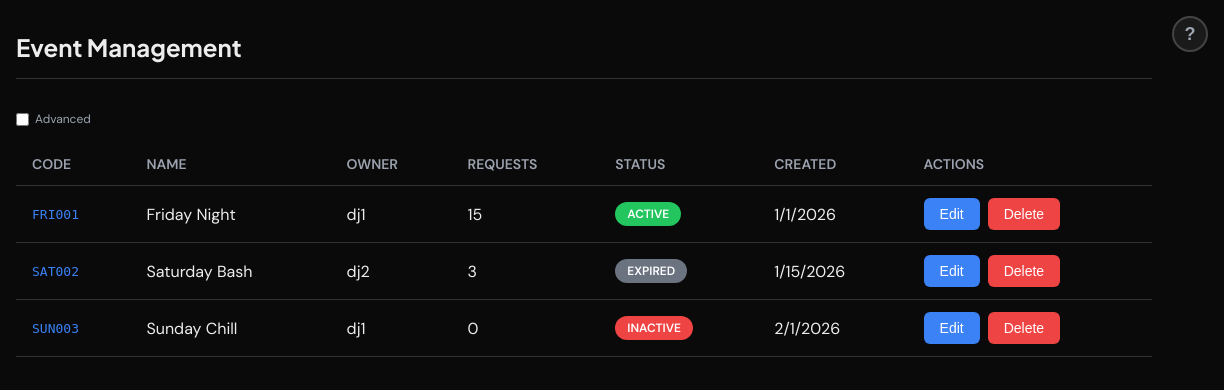
AdminEventsPage › Batch delete (selection mode) › select all header checkbox
The image size is (1224, 390).
expect the text "Friday Night" is shown: met, box [130,186,331,242]
Step 1. Click the checkbox labelled "Advanced" → (22, 119), box [16,112,29,126]
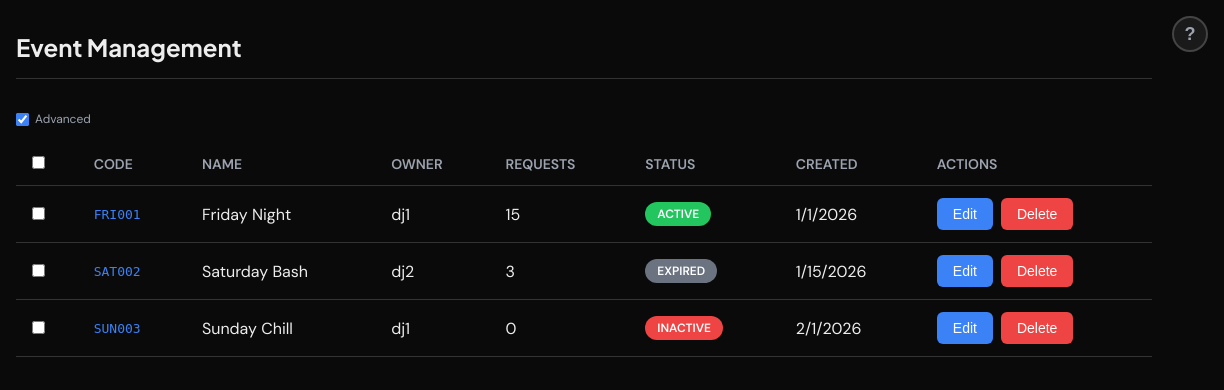
Step 2. Click the checkbox named "Select All" → (38, 162), box [32,156,45,169]
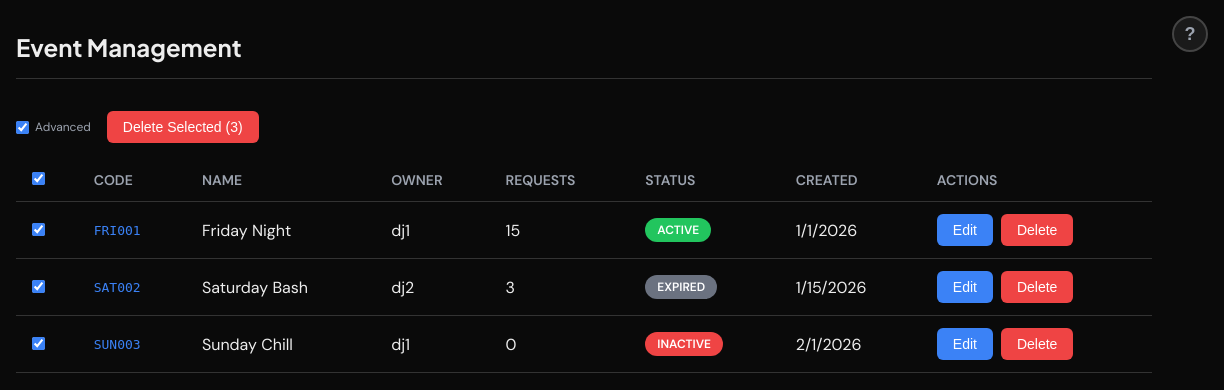
expect the button "Delete Selected (3)" is shown: met, box [107,111,259,143]
Step 3. Click the checkbox named "Select All" → (38, 178), box [32,172,45,185]
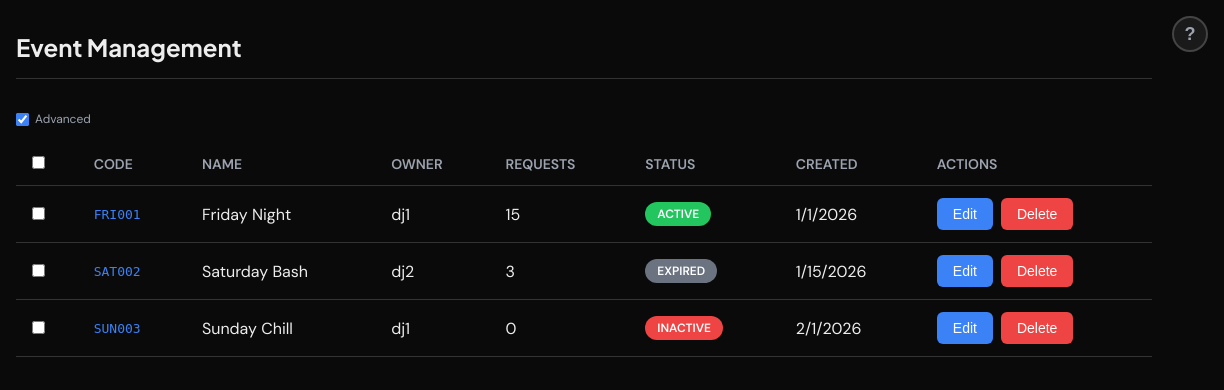
expect the button "Delete Selected" is gone: met
